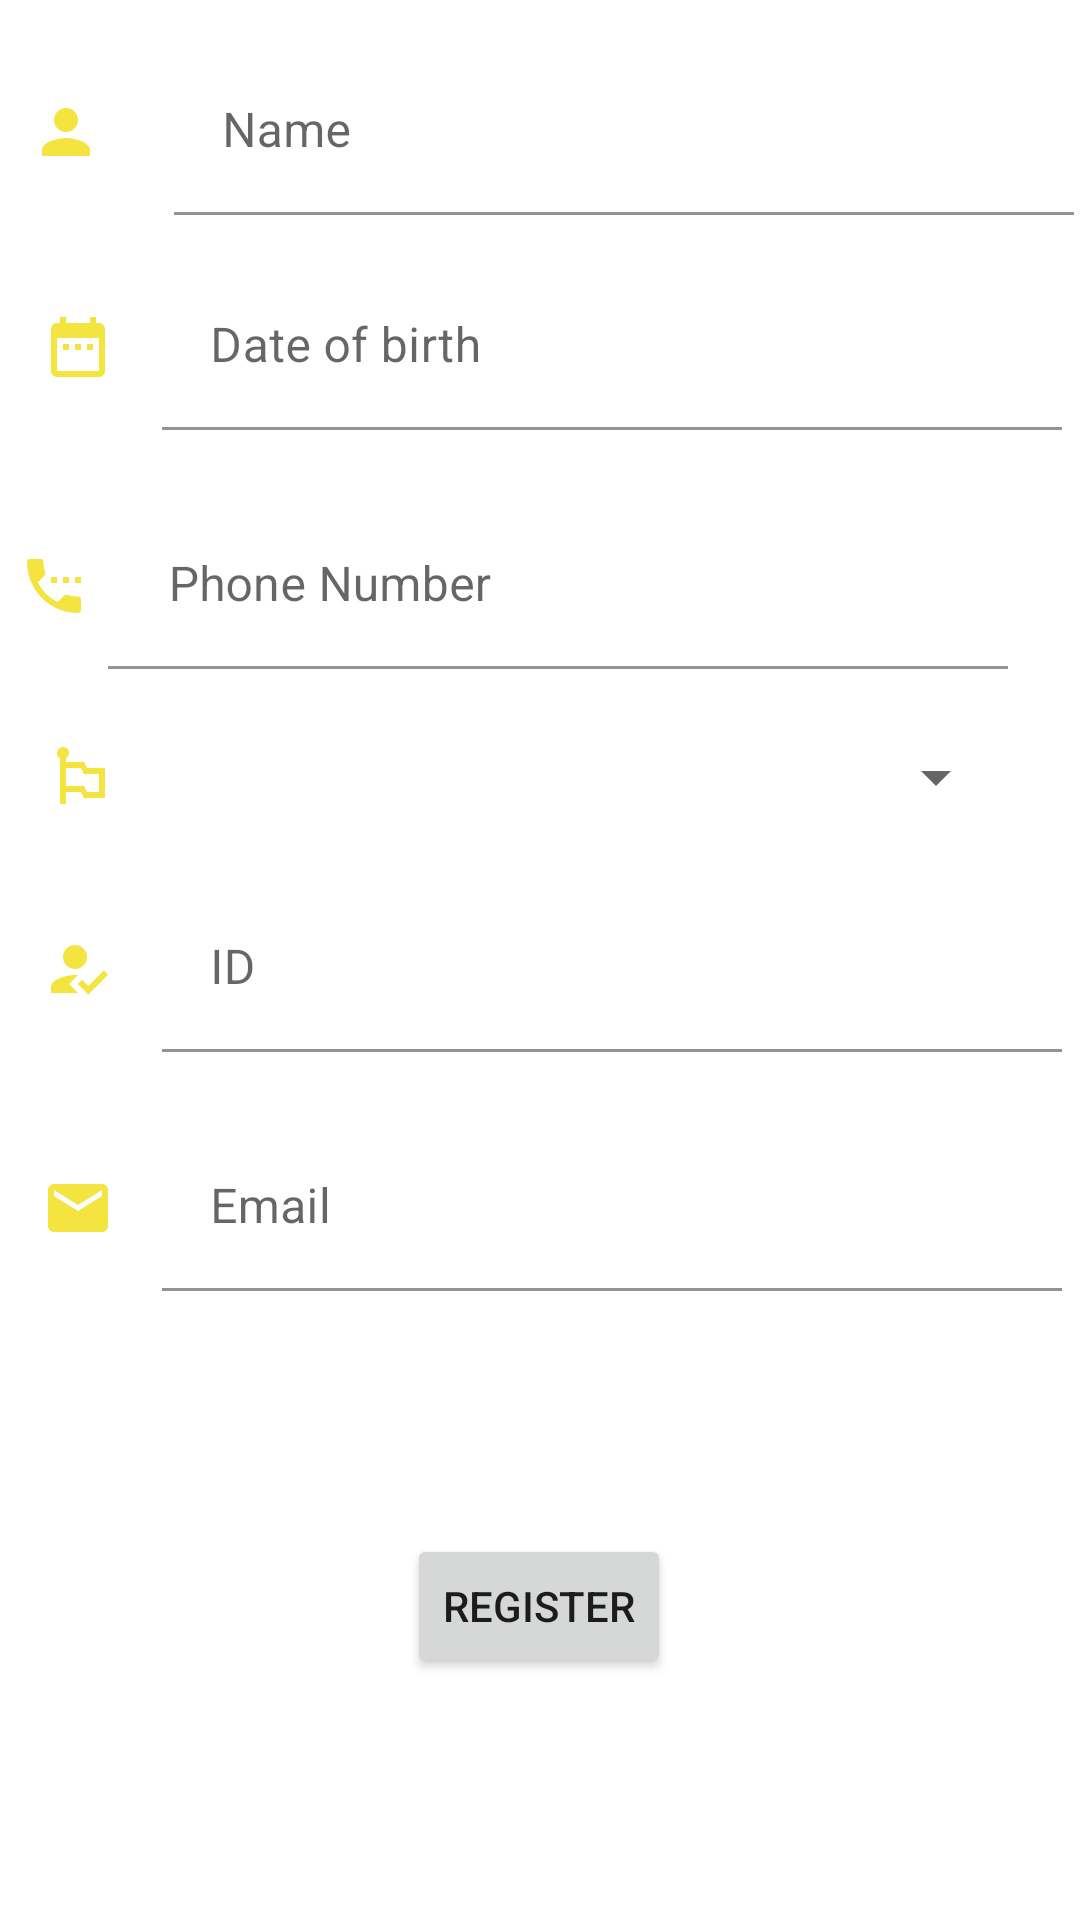

Icons on this 1080 × 1920 Android screen, each with the point to tap as (x=x, y=y):
date range: (x=78, y=347)
emoji flags: (x=81, y=775)
how to reg: (x=79, y=970)
person: (x=66, y=132)
settings phone: (x=54, y=586)
